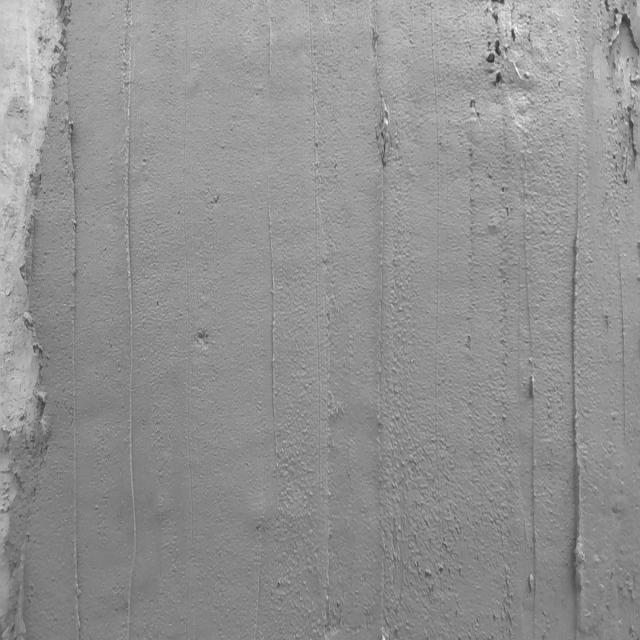trowels marks: (369, 25, 394, 630), (120, 29, 142, 640), (566, 175, 591, 633), (64, 106, 83, 640), (516, 212, 540, 622), (265, 196, 281, 467)
